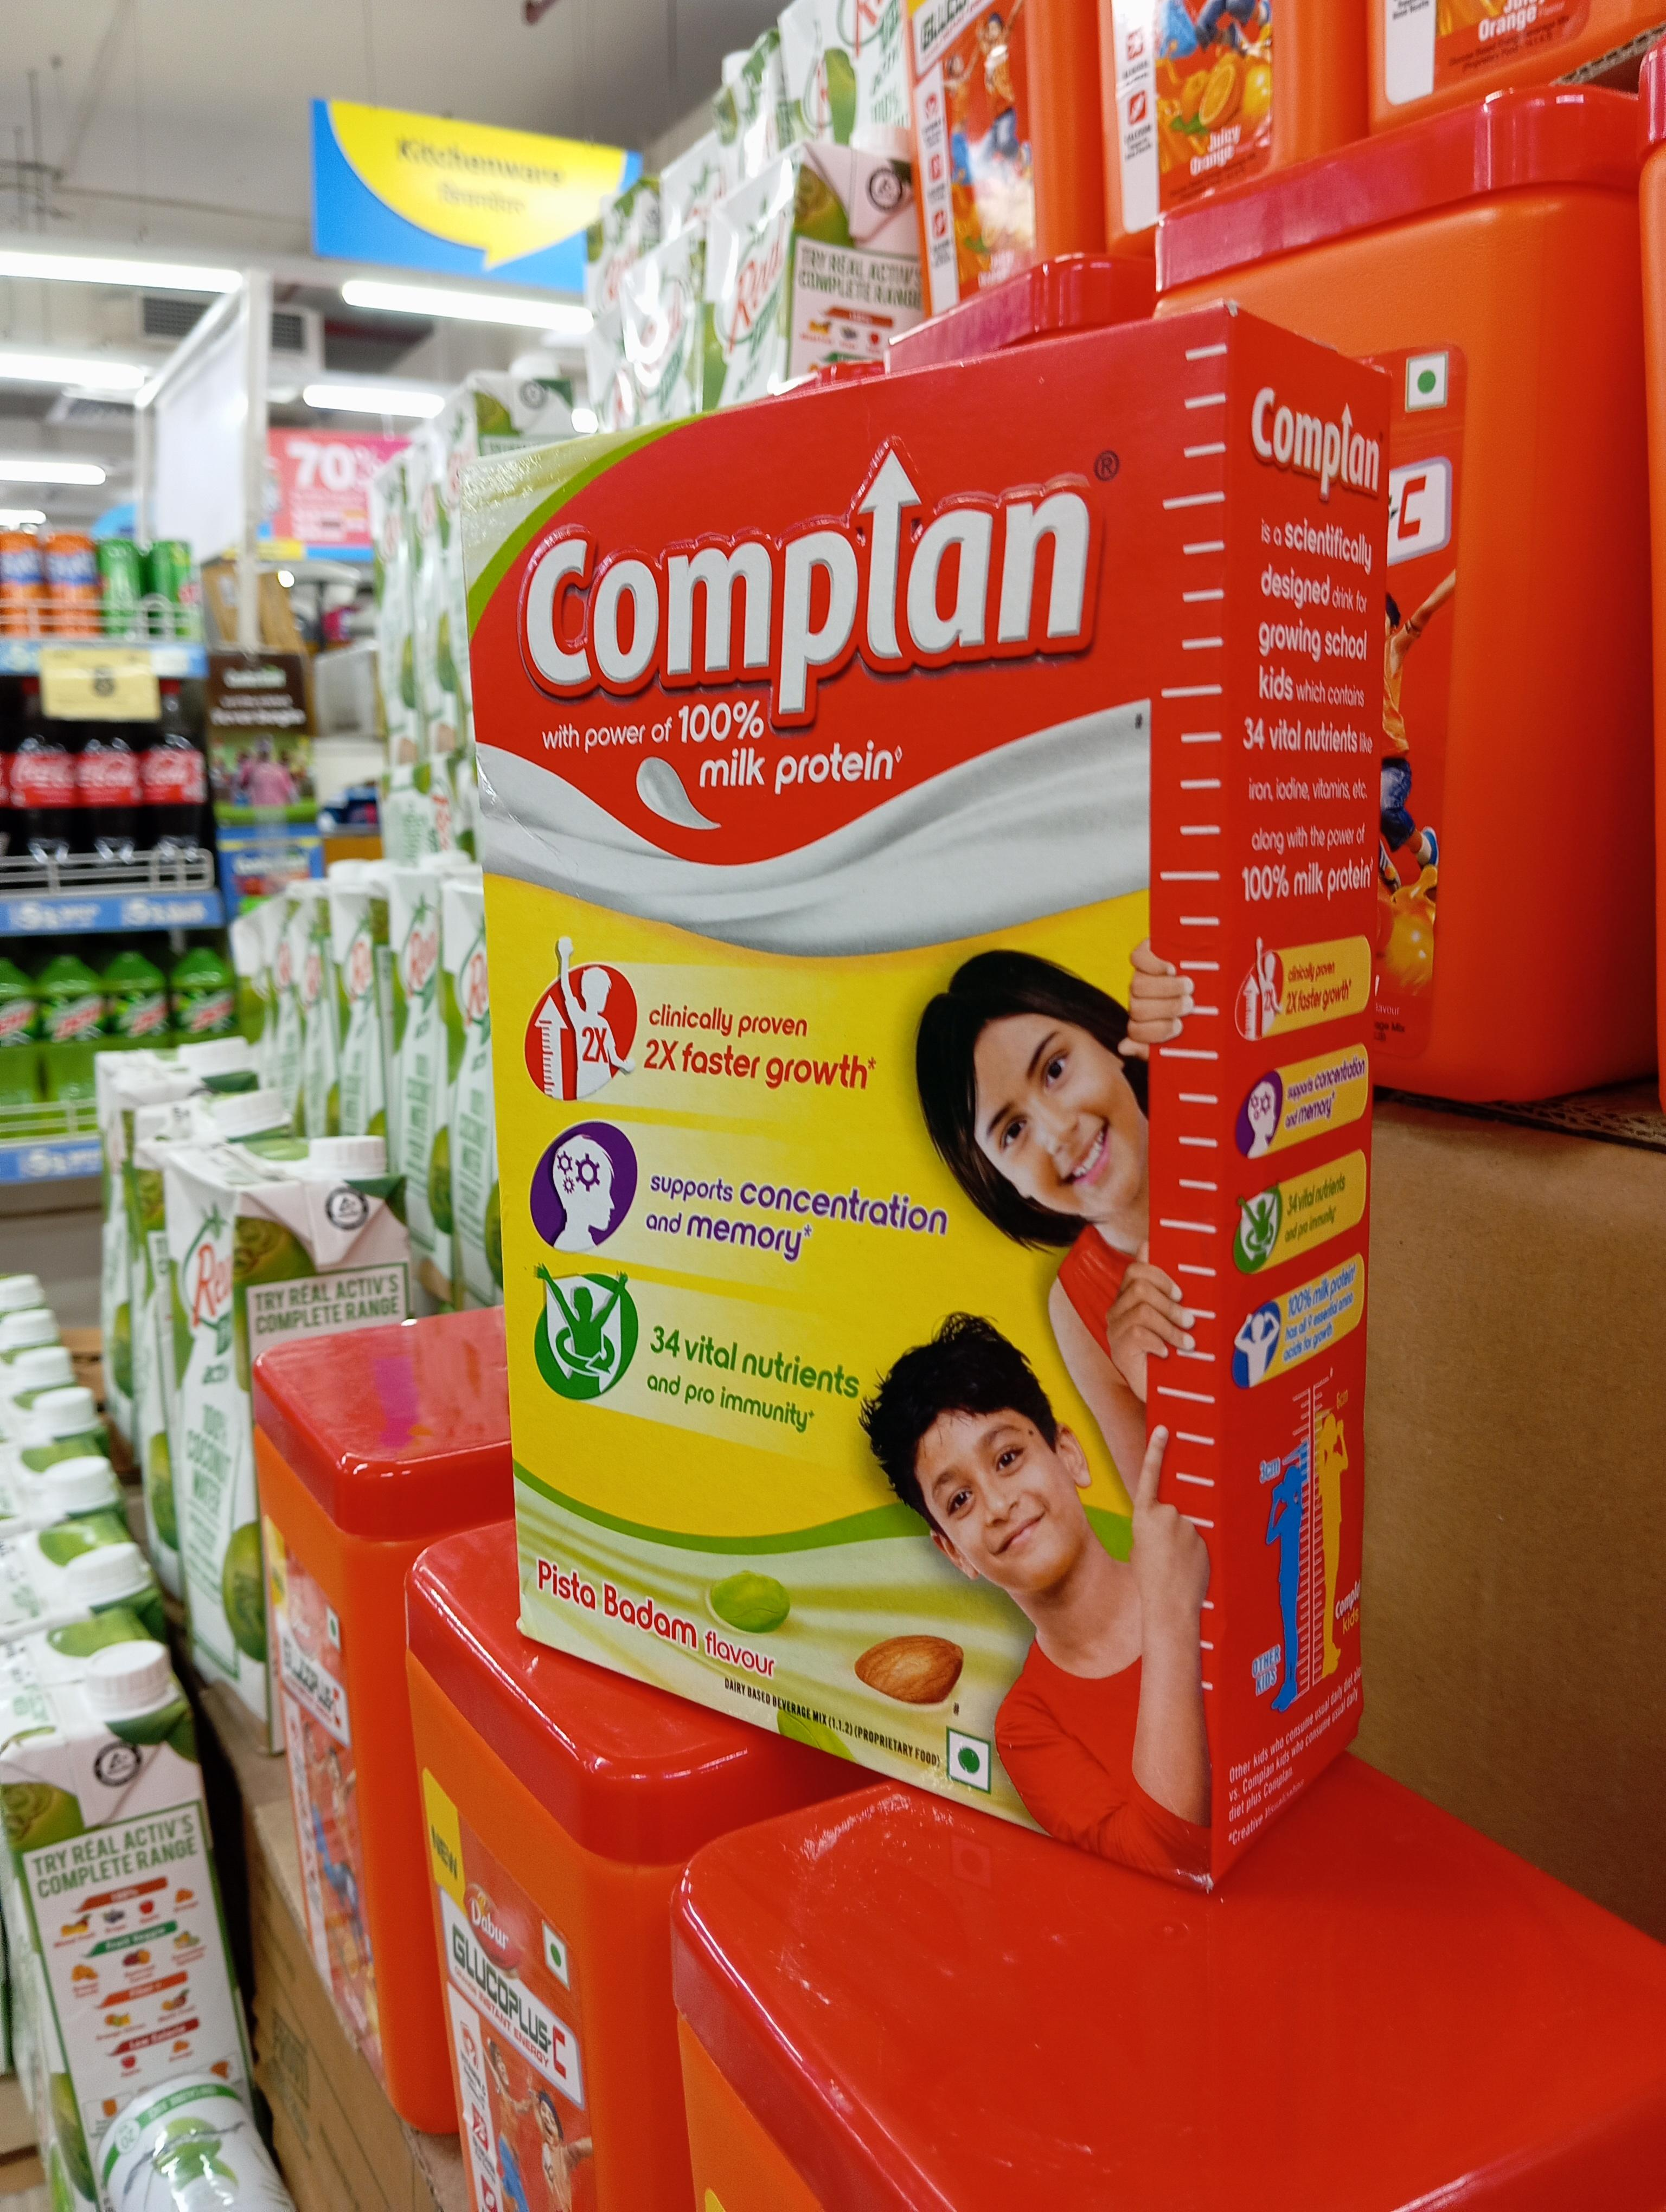COMPLAN_PISTA_BADAM_500_GMS_PACK: (488, 407, 1225, 1715)
